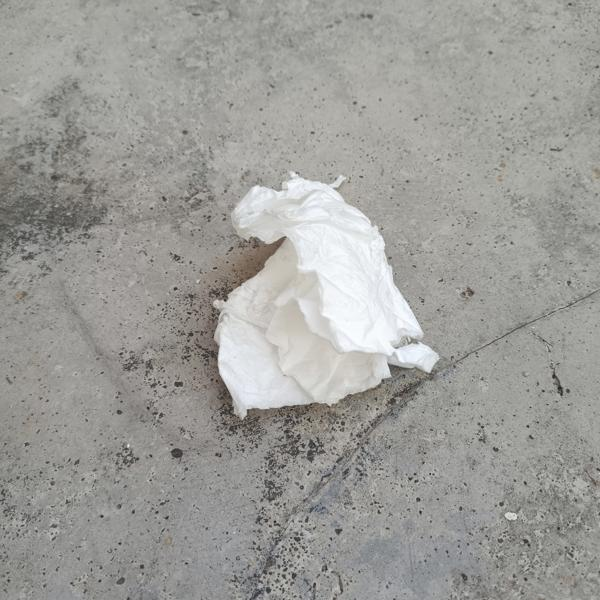Organik: (200, 169, 456, 434)
